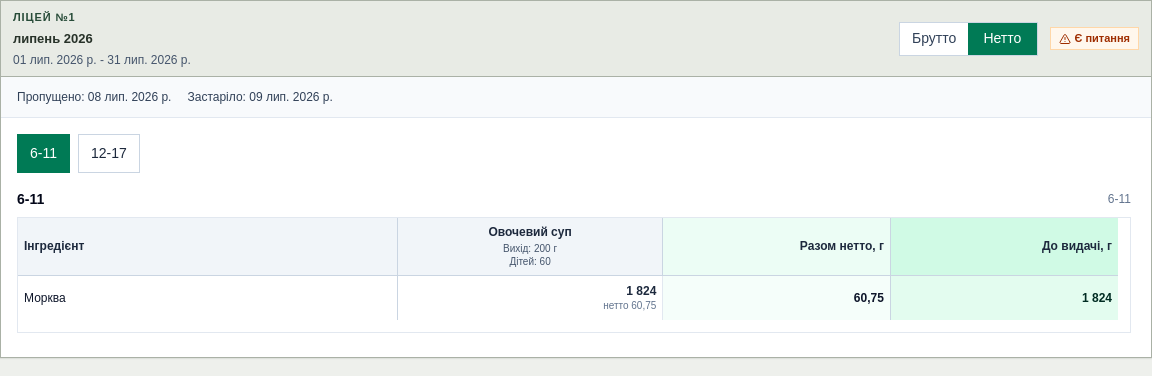
RequirementReportTable › shows one group table at a time
The image size is (1152, 376).
Check: the heading "6-11" is shown, box [17, 189, 44, 209]
Click the button "12-17". click: x=109, y=154
box: [78, 134, 140, 173]
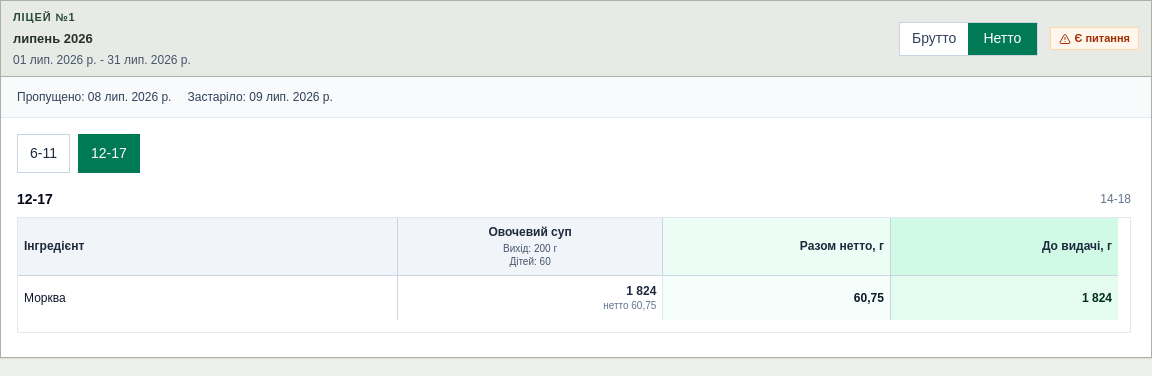
Check: the heading "12-17" is shown, box [17, 189, 53, 209]
